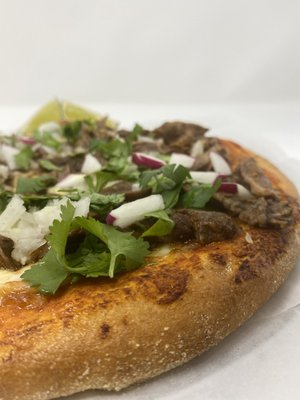sandwich: (0, 116, 300, 398), (0, 100, 300, 304)
